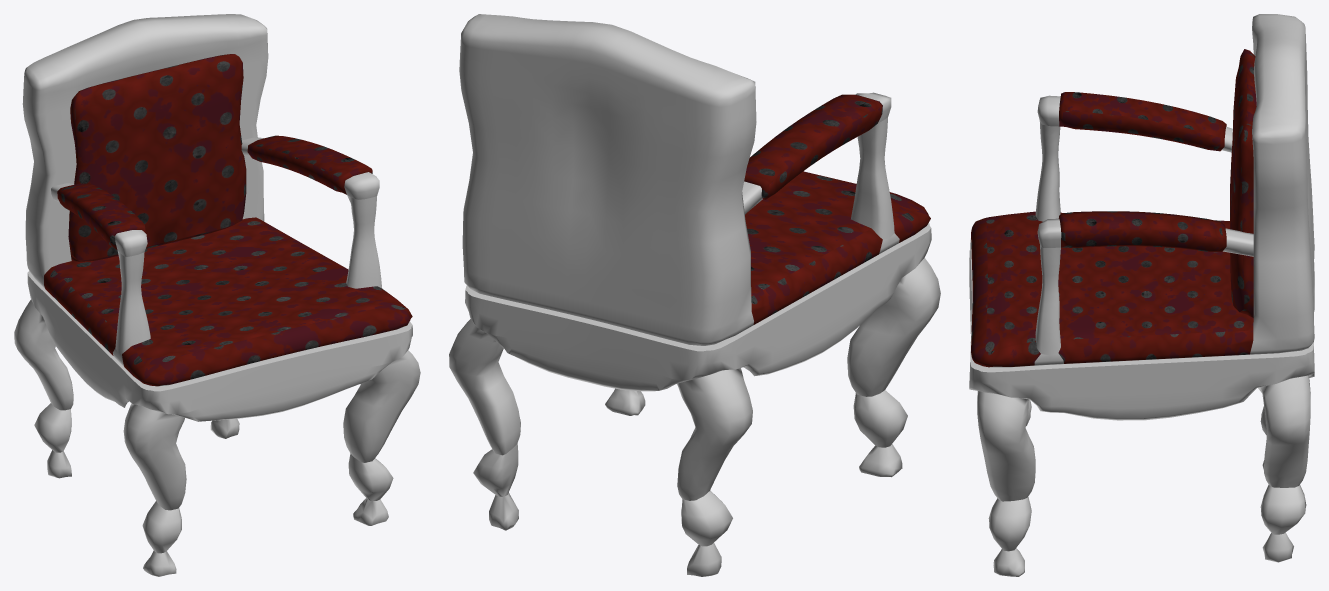
File: SM_Chair.fbx
The picture shows the model from 3 angles, left to right: view 1: azimuth 30°, elevation 25°; view 2: azimuth 150°, elevation 25°; view 3: azimuth 270°, elevation 25°; orthographic projection. The views are drawn at different scales.
Visible parts, largest first — view 1: Chair; view 2: Chair; view 3: Chair.
Part boxes in pixels (x1,y1,x2,y2): Chair: [14, 14, 420, 576]; Chair: [449, 14, 940, 576]; Chair: [969, 14, 1314, 576].
Size of the model in its own units: 2463 by 3525 by 2367.
